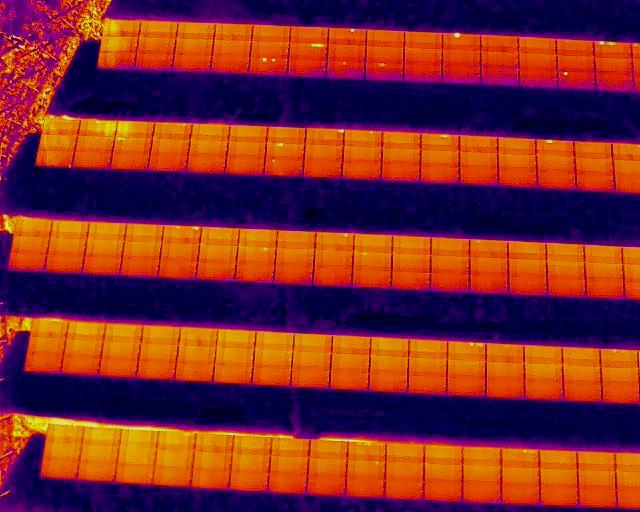Cell: (315, 232, 353, 250), (347, 461, 385, 479), (238, 247, 275, 265), (366, 63, 403, 81), (557, 71, 594, 89), (536, 139, 574, 156), (421, 133, 459, 150), (344, 130, 381, 147), (443, 33, 480, 50), (327, 61, 364, 78), (329, 28, 365, 45), (307, 129, 344, 145), (267, 143, 303, 159)
Cell-Multi: (501, 447, 539, 467), (448, 341, 486, 360), (601, 348, 638, 367), (163, 225, 200, 242), (594, 41, 631, 58), (251, 57, 287, 74)
No-Anomaly: (578, 486, 617, 508), (540, 485, 578, 506), (353, 268, 391, 289), (563, 381, 602, 401), (409, 339, 448, 359), (485, 379, 524, 399), (76, 462, 115, 482), (307, 476, 346, 496), (370, 355, 408, 375), (371, 336, 409, 356), (525, 380, 563, 400), (501, 484, 539, 504), (463, 483, 501, 503), (463, 447, 501, 467), (347, 479, 385, 499), (424, 481, 462, 501), (447, 376, 486, 395), (233, 436, 272, 455), (386, 443, 425, 462), (384, 480, 423, 499), (469, 275, 508, 294), (602, 383, 639, 403), (116, 464, 153, 484), (176, 362, 214, 381), (369, 373, 407, 392), (562, 347, 600, 366), (178, 328, 216, 347), (330, 371, 368, 390), (292, 369, 330, 388), (578, 451, 616, 470), (155, 448, 193, 467), (538, 170, 576, 189), (313, 267, 351, 286), (547, 278, 585, 297), (431, 237, 469, 256), (431, 273, 469, 292), (460, 166, 498, 185), (540, 450, 578, 469), (142, 325, 178, 345), (153, 468, 193, 486), (41, 459, 77, 479), (218, 330, 255, 349), (256, 332, 293, 351), (253, 366, 290, 385), (83, 428, 120, 447), (294, 334, 331, 353), (470, 239, 507, 258), (84, 255, 121, 274), (117, 446, 154, 465), (425, 446, 462, 465), (408, 376, 447, 394), (231, 454, 270, 472), (431, 255, 470, 273), (524, 345, 562, 363), (271, 439, 309, 457), (486, 343, 524, 361), (408, 357, 446, 375), (486, 361, 524, 379), (574, 141, 612, 159), (332, 335, 370, 353), (214, 365, 252, 383), (196, 434, 232, 453), (269, 475, 307, 493), (308, 459, 346, 477), (382, 164, 420, 182), (88, 222, 126, 240), (276, 248, 314, 266), (392, 272, 430, 290), (392, 254, 430, 272), (546, 243, 584, 261), (354, 234, 392, 252), (584, 245, 622, 263), (595, 73, 633, 91), (442, 65, 480, 83), (498, 169, 536, 187), (481, 51, 519, 69), (25, 353, 59, 373), (103, 340, 137, 360), (47, 252, 81, 272), (254, 350, 291, 368), (216, 347, 253, 365), (344, 146, 381, 164), (367, 30, 404, 48), (310, 441, 347, 459), (270, 457, 307, 475), (576, 173, 613, 191), (277, 231, 314, 249), (386, 462, 423, 480), (508, 259, 545, 277), (201, 227, 238, 245), (508, 242, 545, 260), (105, 323, 140, 342), (195, 451, 230, 470), (314, 250, 353, 267), (353, 252, 392, 269), (199, 246, 238, 263), (140, 344, 176, 362), (305, 160, 341, 178), (239, 229, 275, 247), (175, 53, 211, 71), (121, 258, 157, 276), (49, 237, 85, 255), (289, 58, 325, 76), (63, 355, 97, 374), (448, 360, 486, 377), (498, 153, 536, 170), (536, 155, 574, 172), (459, 136, 497, 153), (383, 131, 421, 148), (48, 425, 82, 444), (293, 352, 331, 369), (230, 473, 268, 490), (463, 465, 501, 482), (470, 257, 508, 274), (159, 261, 197, 278), (236, 266, 274, 283), (274, 267, 312, 284), (509, 277, 547, 294), (424, 464, 462, 481), (540, 468, 578, 485), (519, 54, 557, 71), (481, 68, 519, 85), (392, 237, 430, 254), (547, 261, 585, 278), (585, 263, 623, 280), (586, 280, 624, 297), (420, 166, 458, 183), (366, 46, 404, 63), (502, 467, 540, 484), (197, 264, 235, 281), (150, 153, 185, 171), (101, 358, 136, 376), (68, 322, 103, 340), (121, 429, 156, 447), (45, 443, 80, 461), (193, 470, 228, 488), (525, 362, 562, 379), (498, 138, 535, 155), (331, 354, 368, 371), (519, 37, 556, 54), (177, 346, 214, 363), (291, 26, 328, 43), (86, 240, 123, 257), (80, 445, 117, 462), (138, 37, 175, 54), (135, 53, 172, 70), (126, 225, 163, 242), (123, 242, 160, 259), (519, 70, 556, 87), (348, 444, 385, 461), (404, 65, 441, 82), (10, 251, 43, 270), (577, 470, 616, 486), (66, 339, 100, 357), (138, 361, 174, 378), (268, 127, 304, 144), (191, 124, 227, 141), (266, 159, 302, 176), (162, 242, 198, 259), (252, 41, 288, 58), (212, 56, 248, 73), (32, 320, 68, 337), (405, 32, 443, 48), (157, 432, 195, 448), (481, 35, 519, 51), (601, 367, 639, 383), (556, 40, 594, 56), (575, 157, 613, 173), (80, 119, 115, 136), (117, 121, 152, 138), (189, 156, 224, 173), (228, 157, 263, 174), (178, 22, 213, 39), (177, 38, 212, 55), (141, 21, 176, 38), (38, 149, 71, 167), (13, 236, 46, 254), (53, 220, 86, 238), (382, 147, 419, 163), (421, 150, 458, 166), (343, 162, 380, 178), (558, 55, 595, 71), (405, 48, 442, 64), (562, 365, 601, 380), (115, 137, 149, 154), (112, 153, 146, 170), (306, 145, 340, 162), (77, 136, 111, 153), (231, 126, 265, 143), (74, 151, 108, 168), (99, 52, 133, 69), (214, 40, 250, 56), (215, 24, 251, 40), (329, 45, 365, 61), (595, 58, 633, 73), (29, 338, 64, 354), (102, 37, 137, 53), (40, 135, 75, 151), (155, 123, 190, 139), (460, 152, 497, 167), (229, 142, 263, 158), (17, 220, 49, 237), (190, 142, 226, 157), (254, 26, 290, 41), (442, 50, 480, 64), (105, 20, 138, 36), (152, 139, 186, 153), (44, 120, 78, 134)
Unclassified: (290, 42, 326, 59)
